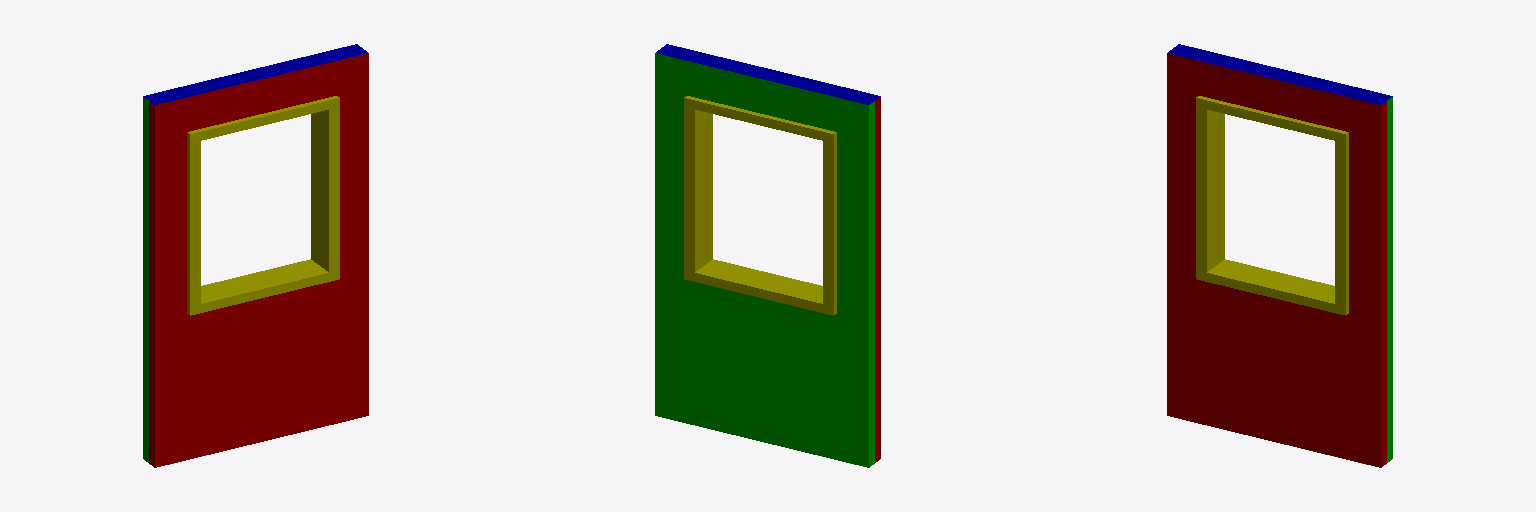
File: wall_with_large_window.obj
The picture shows the model from 3 angles: view 1: azimuth 30°, elevation 25°; view 2: azimuth 150°, elevation 25°; view 3: azimuth 330°, elevation 25°; orthographic projection.
Size of the model in its own units: 2 by 3.24 by 0.3.